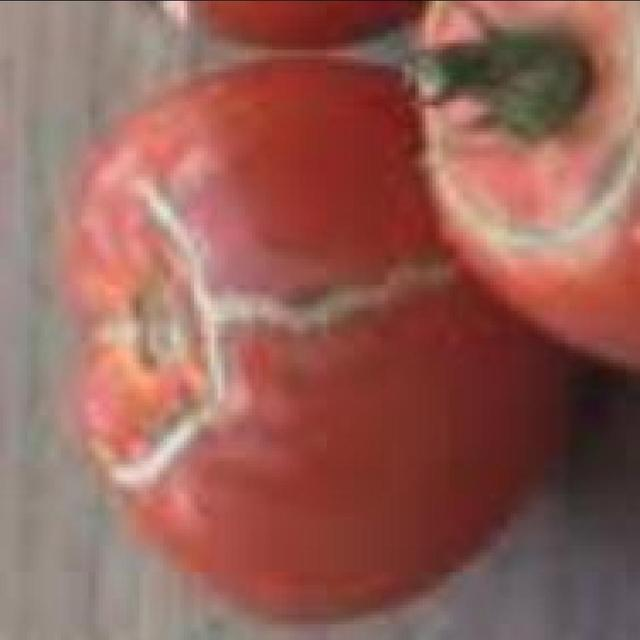Cracking Fruit: (145, 89, 354, 237)
